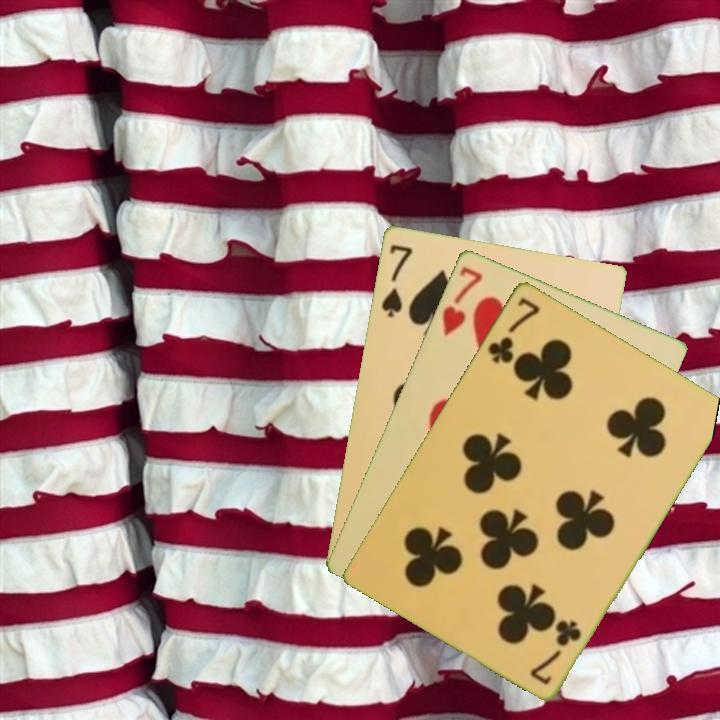7c: (484, 293, 543, 366), (526, 616, 585, 688)
7h: (438, 262, 485, 338)
7s: (377, 240, 415, 320)
